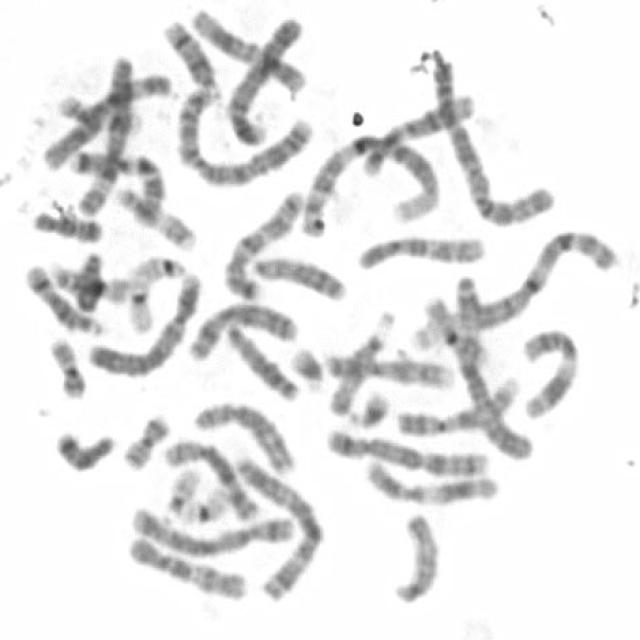A1: (436, 223, 617, 339), (297, 125, 444, 237)
A2: (424, 46, 560, 229), (172, 79, 318, 190)
A3: (446, 269, 534, 464), (232, 448, 328, 602)
B4: (82, 266, 204, 380), (219, 7, 309, 148)
B5: (318, 420, 492, 479), (125, 501, 297, 558)
C10: (120, 528, 250, 602), (351, 227, 489, 273)
C11: (361, 454, 501, 508), (515, 319, 583, 422)
C12: (350, 85, 479, 180), (186, 0, 312, 95)
C6: (37, 66, 173, 171), (71, 48, 137, 218)
C7: (218, 181, 308, 302), (66, 141, 168, 224)
C8: (158, 431, 261, 525), (188, 394, 298, 476)
C9: (391, 369, 523, 438), (317, 344, 456, 391)
D13: (222, 316, 305, 403), (244, 249, 350, 303)
D14: (21, 255, 108, 336), (158, 12, 223, 99)
D15: (321, 303, 398, 420), (387, 505, 444, 607)
E16: (417, 290, 489, 366), (44, 254, 134, 306)
E17: (110, 180, 198, 253), (54, 96, 144, 144)
E18: (48, 422, 119, 474), (26, 203, 106, 244)
F19: (166, 479, 233, 525), (122, 263, 160, 335)
F20: (116, 406, 173, 472), (43, 329, 90, 400)
G21: (285, 339, 328, 394), (341, 384, 392, 430)
G22: (158, 460, 203, 522), (127, 249, 189, 283)
X: (182, 295, 301, 362)
